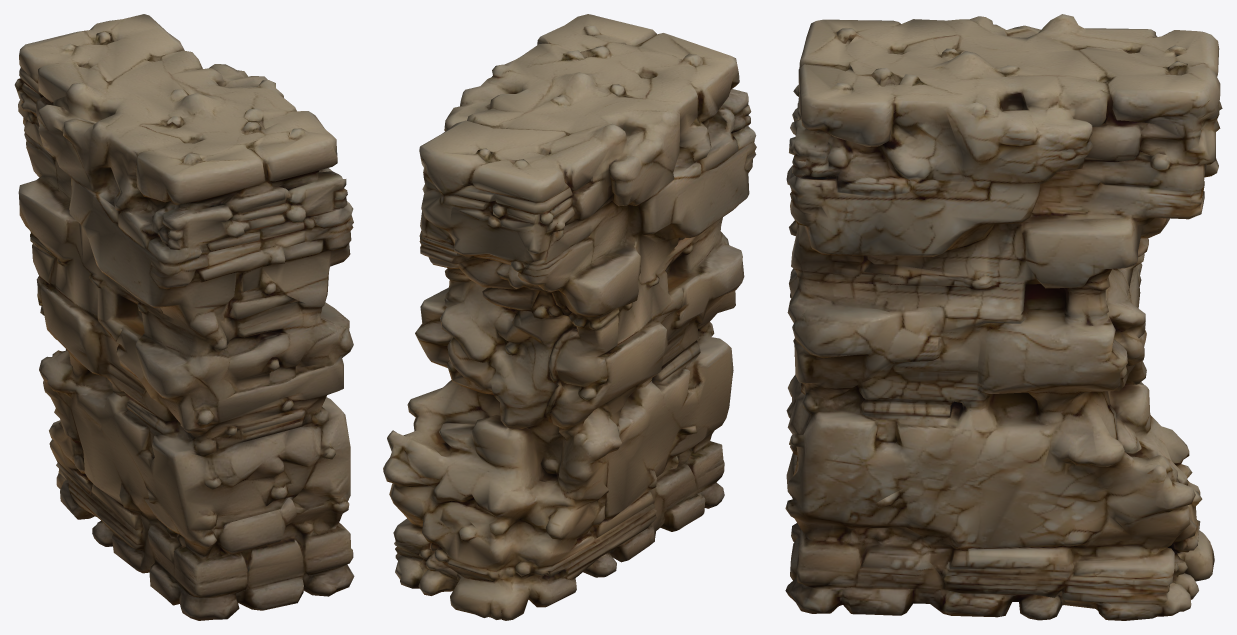
The model's file is cave_wall_limestone.glb.
3 views of the same model, side by side, from view 1: azimuth 30°, elevation 25°; view 2: azimuth 150°, elevation 25°; view 3: azimuth 270°, elevation 25° (orthographic). The views are drawn at different scales.
Parts seen in each view (by area): view 1: tripo_node_e63e799a-2e6c-41d4-966d-f77e80cd4719; view 2: tripo_node_e63e799a-2e6c-41d4-966d-f77e80cd4719; view 3: tripo_node_e63e799a-2e6c-41d4-966d-f77e80cd4719.
Part boxes in pixels (x1=…): tripo_node_e63e799a-2e6c-41d4-966d-f77e80cd4719: x1=14, y1=14, x2=354, y2=620; tripo_node_e63e799a-2e6c-41d4-966d-f77e80cd4719: x1=383, y1=14, x2=756, y2=620; tripo_node_e63e799a-2e6c-41d4-966d-f77e80cd4719: x1=785, y1=14, x2=1222, y2=620.
Size of the model in its own units: 0.4941 by 0.998 by 0.7676.
1 material, 1 textured.
